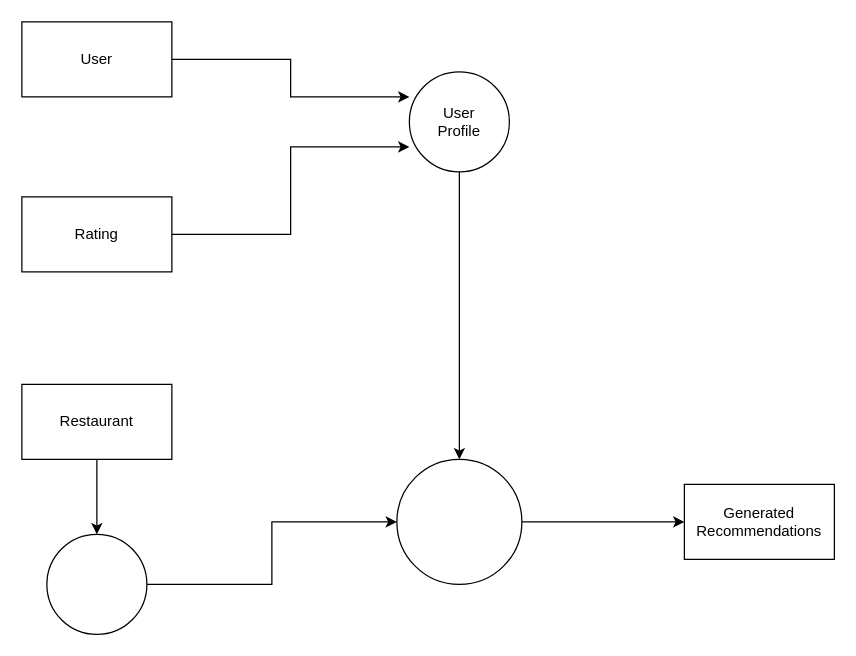
The diagram is 856 pixels wide and 656 high, and some of its shapes have lost their labels. Here are the shapes that lost their labels. From the top down, the centre of each, then its label:
At [459,521]: "Restaurant Recommendation System".
At [96,583]: "Restaurant Profile".
